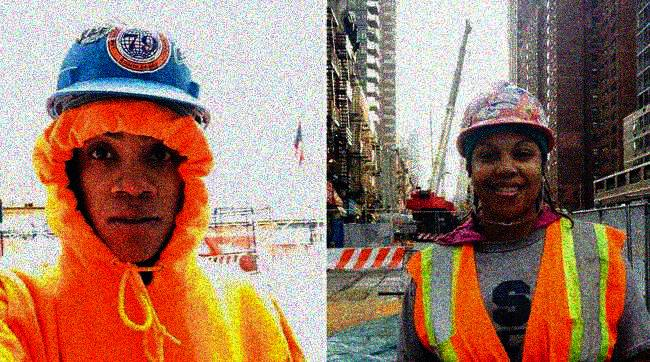helmet: (44, 20, 215, 257), (456, 81, 558, 214)
